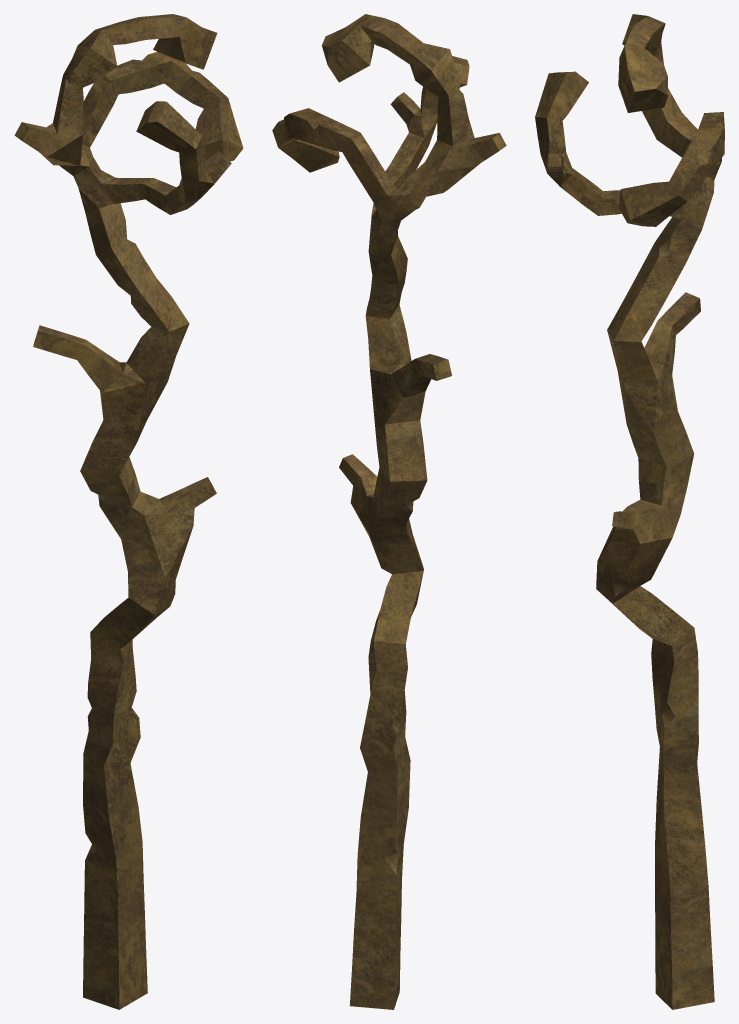
File: mg_12_light_2.fbx
3 views of the same model, side by side, from view 1: azimuth 30°, elevation 25°; view 2: azimuth 150°, elevation 25°; view 3: azimuth 270°, elevation 25° (orthographic). The views are drawn at different scales.
Parts seen in each view (by area): view 1: mg_12_light_2; view 2: mg_12_light_2; view 3: mg_12_light_2.
Part boxes in pixels (box(x1,y1,x2,y2)): mg_12_light_2: box(14, 14, 243, 1009); mg_12_light_2: box(272, 14, 506, 1009); mg_12_light_2: box(535, 14, 724, 1009).
Bounding box in the file's own units: 74.59 × 316 × 55.72.
